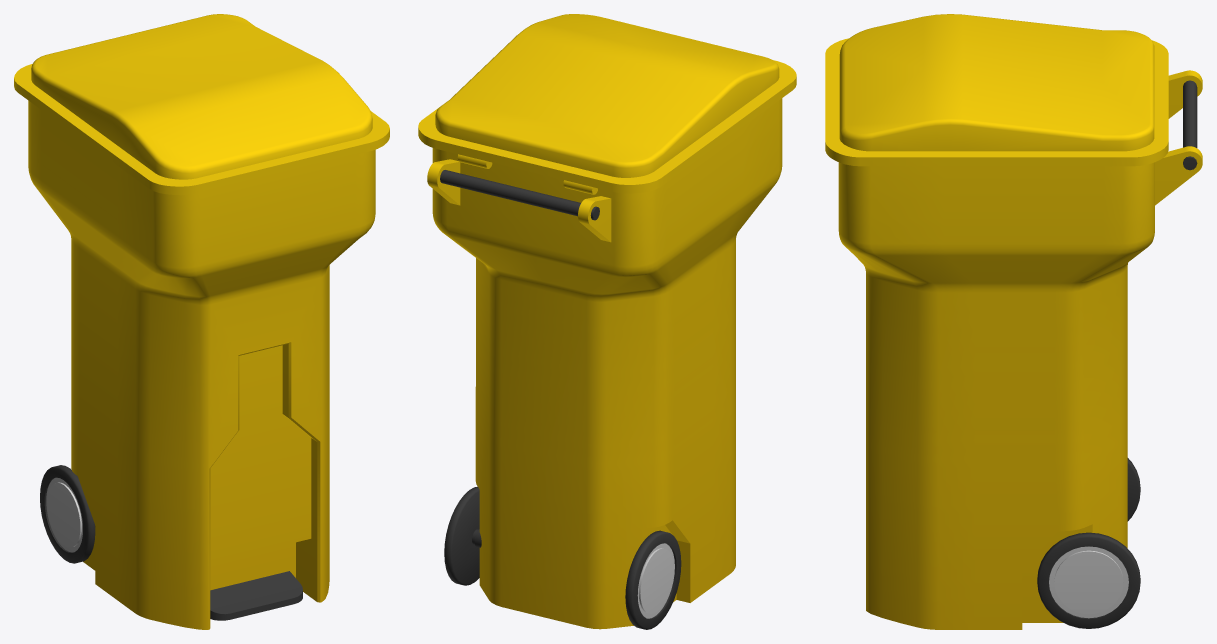
The model's file is garbage_collector_yellow_large.glb.
The picture shows the model from 3 angles, left to right: view 1: azimuth 30°, elevation 25°; view 2: azimuth 150°, elevation 25°; view 3: azimuth 270°, elevation 25°; orthographic projection. The views are drawn at different scales.
Parts seen in each view (by area): view 1: garbage_collector_yellow_large; view 2: garbage_collector_yellow_large; view 3: garbage_collector_yellow_large.
Boxes of the visible parts, x1=… form: garbage_collector_yellow_large: x1=14, y1=14, x2=389, y2=629; garbage_collector_yellow_large: x1=418, y1=14, x2=796, y2=629; garbage_collector_yellow_large: x1=825, y1=14, x2=1202, y2=629.
Size of the model in its own units: 0.603 by 1.21 by 0.8.
Materials: 1 (1 with a texture image).
